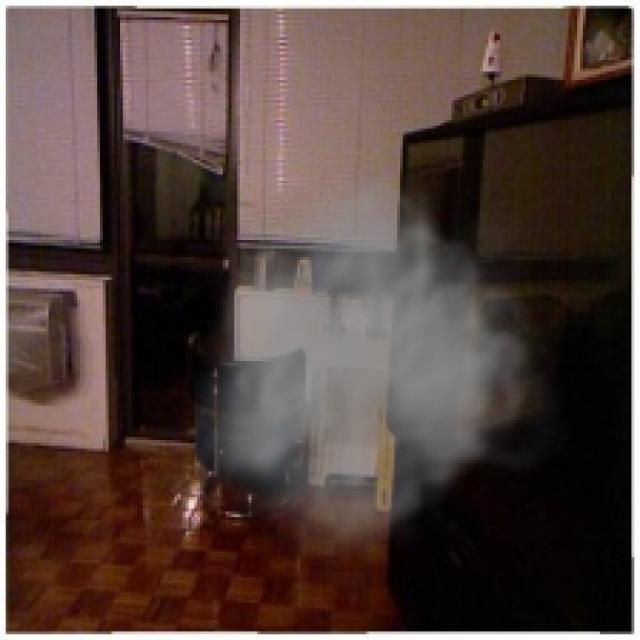smoke: (194, 157, 572, 574)
